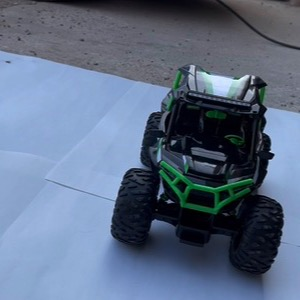polaris: (108, 63, 286, 277)
